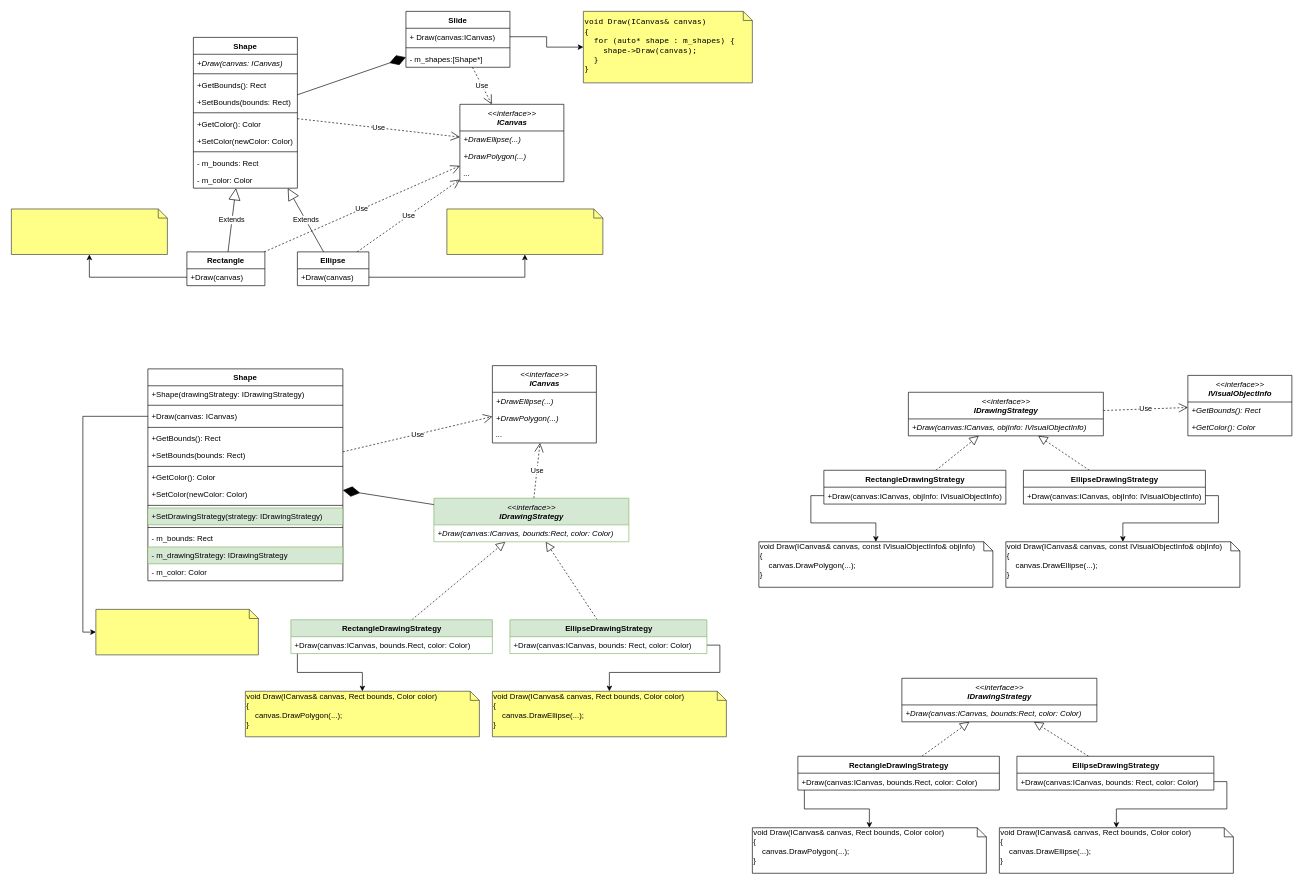
The diagram is 1303 pixels wide and 885 high, and some of its shapes have lost their labels. Each missing label, with the centre of its shape:
"void Draw(ICanvas& canvas) { m_drawingStrategy->Draw(canvas, this); }" belongs at (176,632).
"void Ellipse::Draw(ICanvas& canvas) { canvas.DrawEllipse(...); }" belongs at (524,231).
"void Rectangle::Draw(ICanvas& canvas) { canvas.DrawPolygon(...); }" belongs at (89,231).
